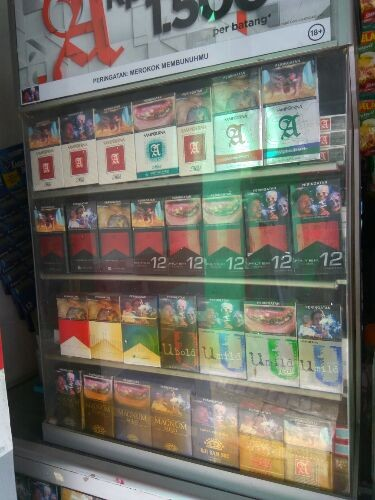A Mild: (177, 90, 215, 176), (95, 107, 136, 184), (62, 113, 98, 188), (27, 122, 61, 189)
U Mild: (244, 298, 299, 385), (296, 303, 347, 392), (196, 297, 246, 378)
